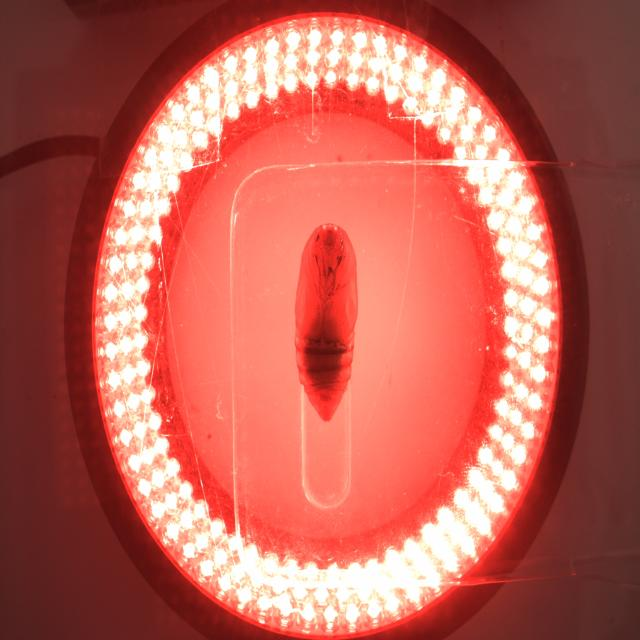male: (319, 394, 332, 402)
